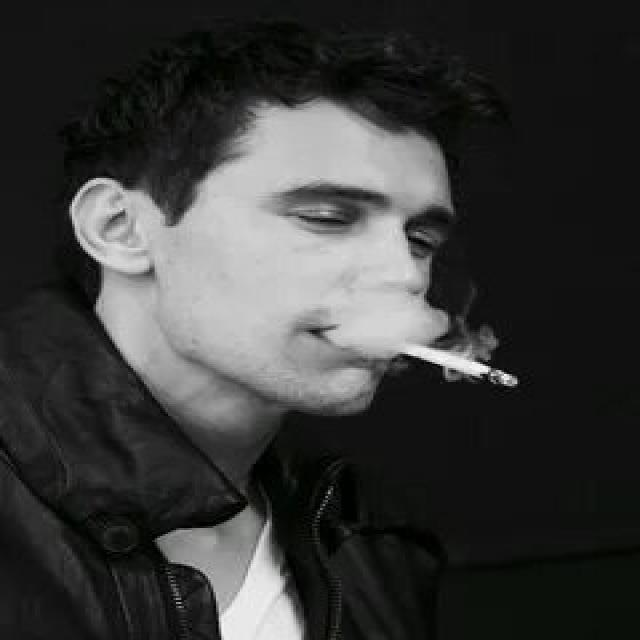cigarette: (358, 318, 534, 392)
